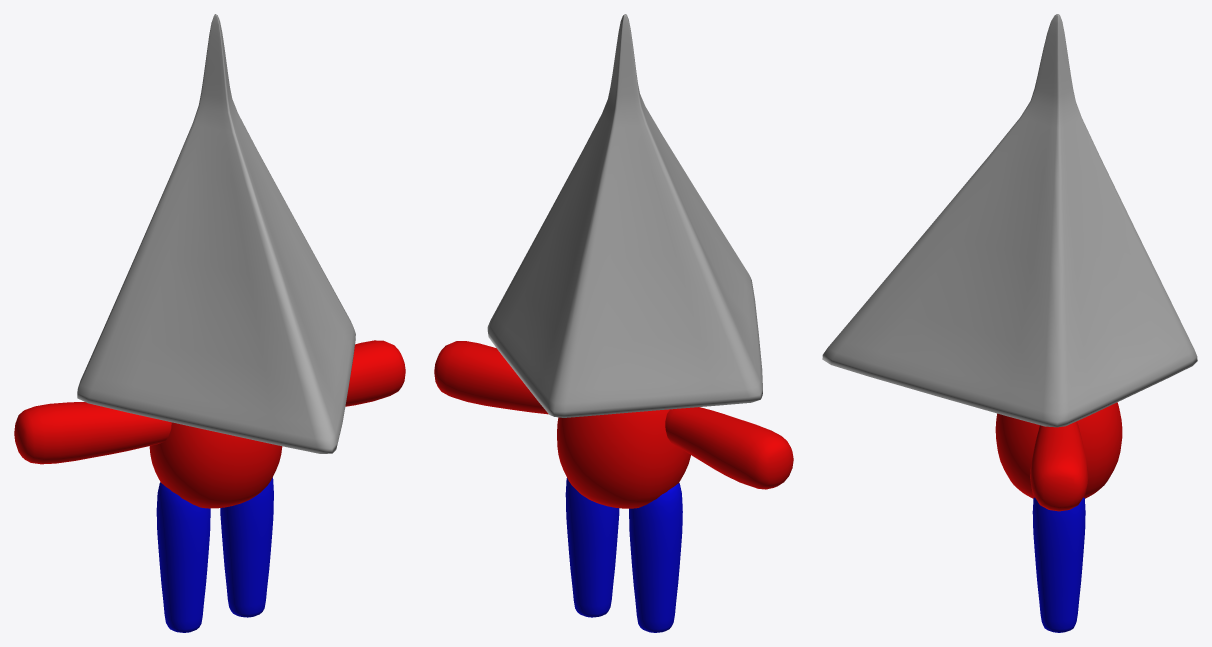
The model's file is NPC_Pinhead.fbx.
3 views of the same model, side by side, from view 1: azimuth 30°, elevation 25°; view 2: azimuth 150°, elevation 25°; view 3: azimuth 270°, elevation 25° (orthographic).
Visible parts, largest first — view 1: NPC_pinHeadF; view 2: NPC_pinHeadF; view 3: NPC_pinHeadF.
Part boxes in pixels (x1,y1,x2,y2): NPC_pinHeadF: (14,14,405,632); NPC_pinHeadF: (434,14,793,632); NPC_pinHeadF: (822,14,1197,632).
Bounding box in the file's own units: 0.6808 × 1.08 × 0.6138.
